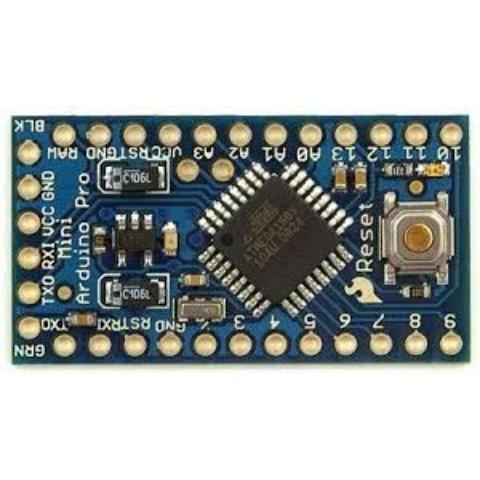Arduino-Pro-Mini: (2, 106, 480, 370)
